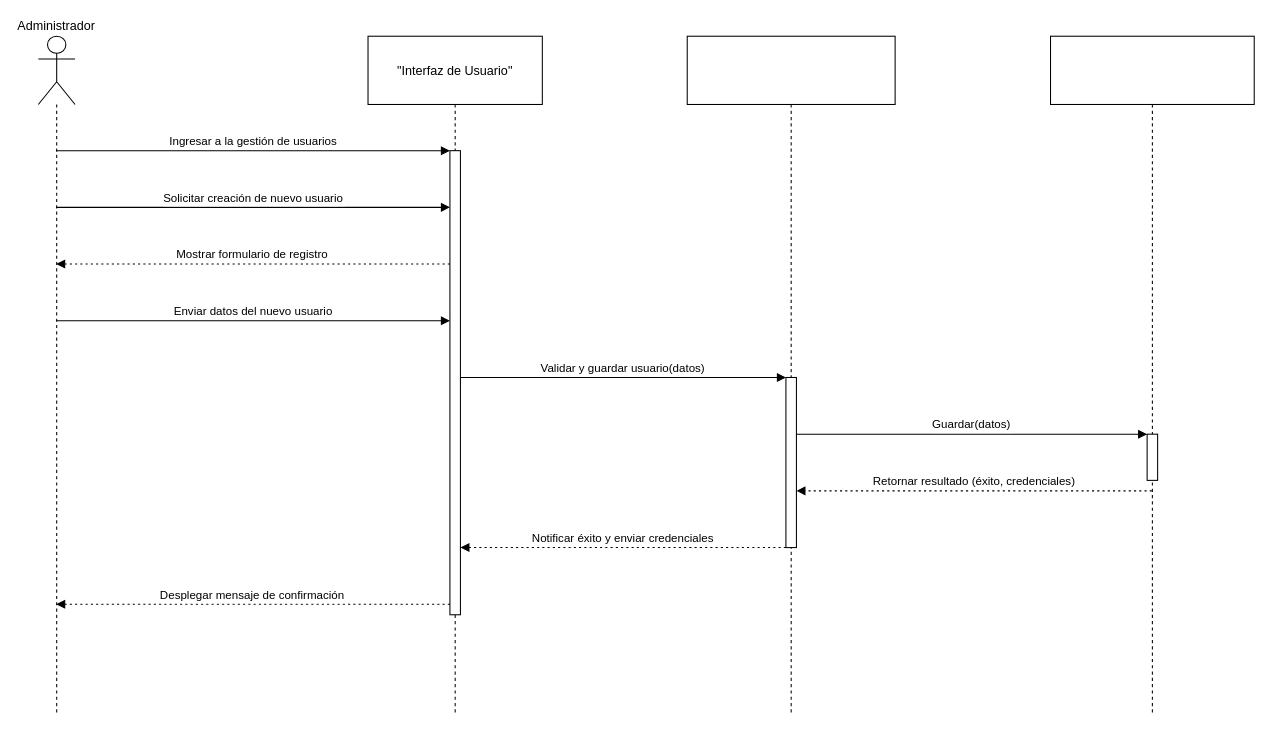
Image size: 1273x733. Some labels were removed from this diagram. The box of each missing label's shape, as (x1, y1, x2, y2) in pixels:
"Controlador de Usuario": (686, 35, 895, 715)
"Modelo/BD de Usuario": (1049, 35, 1254, 715)
